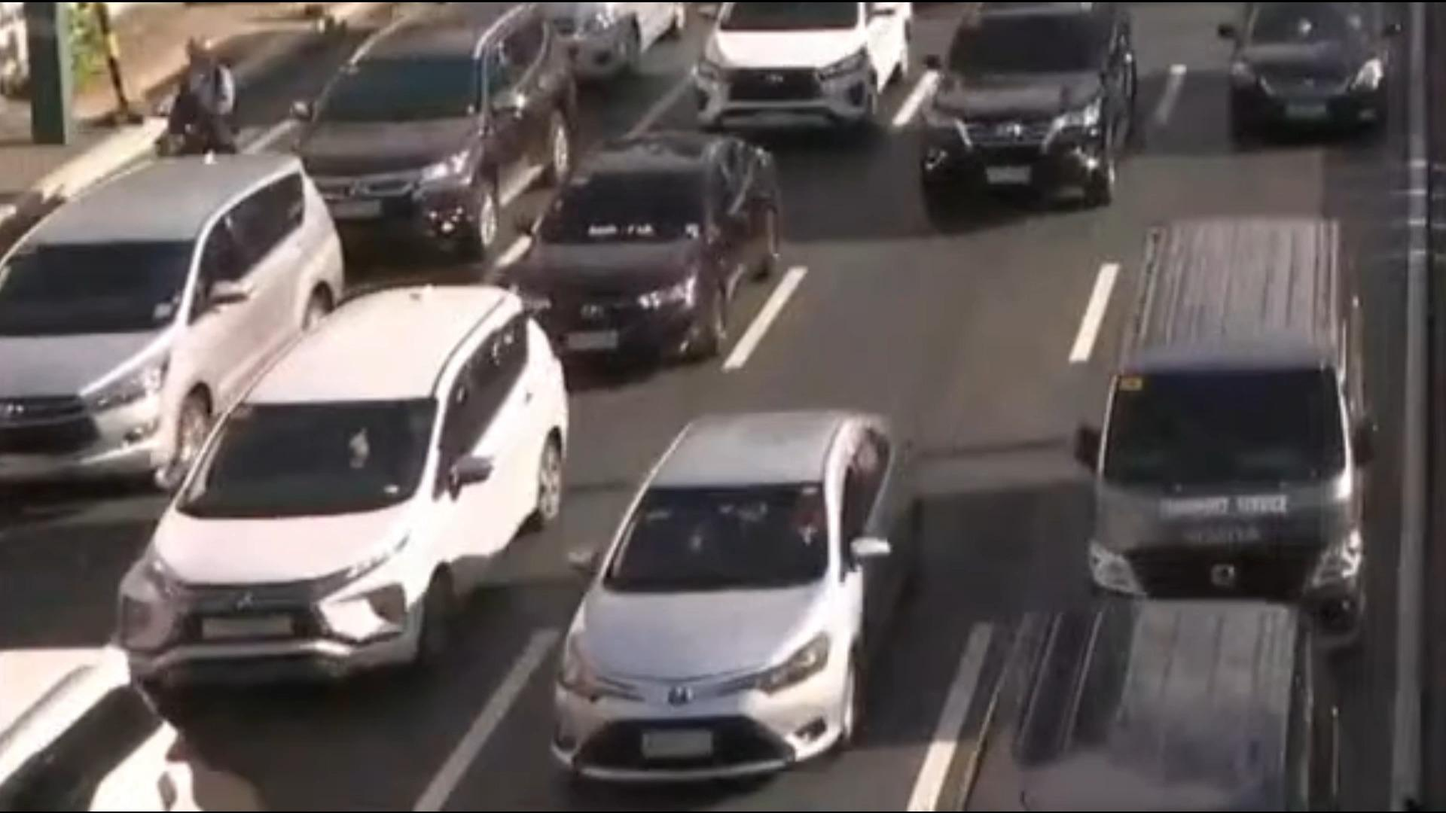Motorcycle: (158, 32, 253, 172)
SUV: (110, 269, 563, 708), (0, 140, 345, 500), (241, 0, 601, 297), (905, 0, 1162, 253), (680, 0, 911, 157), (1224, 0, 1415, 158)
Sedan: (527, 384, 930, 785), (507, 121, 802, 387)
Van: (1064, 219, 1390, 670), (921, 546, 1388, 813)
